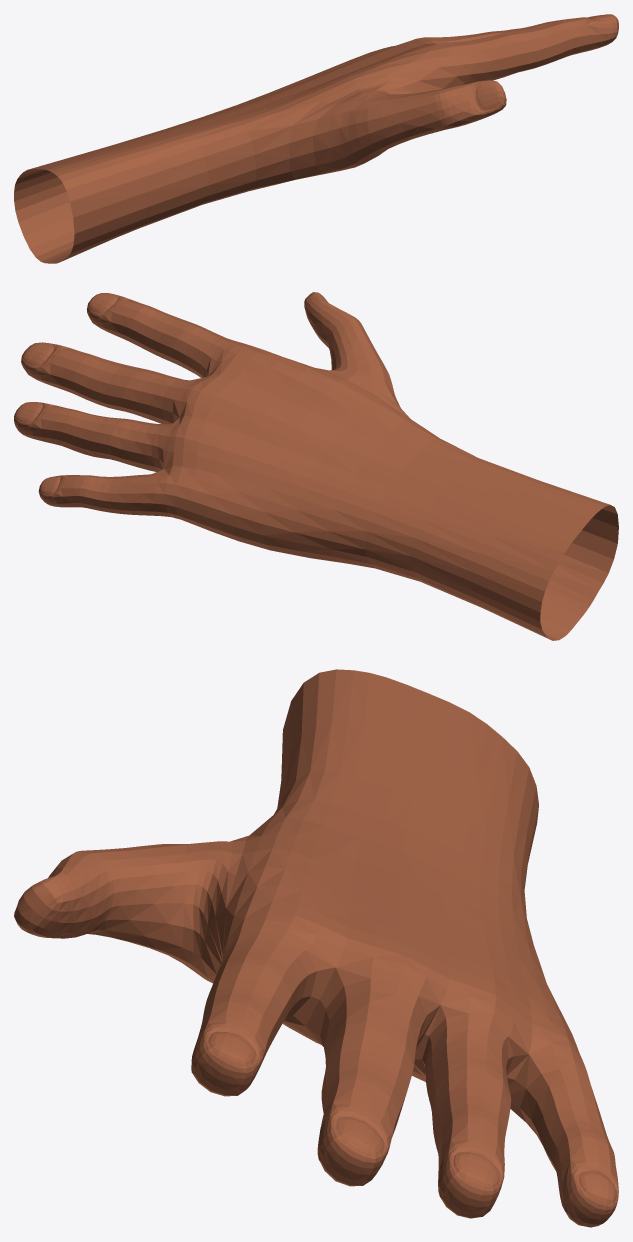
The model's file is hand15.FBX.
The picture shows the model from 3 angles, top to bottom: view 1: azimuth 30°, elevation 25°; view 2: azimuth 150°, elevation 25°; view 3: azimuth 270°, elevation 25°; orthographic projection. The views are drawn at different scales.
Visible parts, largest first — view 1: Cube.005; view 2: Cube.005; view 3: Cube.005.
Boxes of the visible parts, left/top/right/bottom form: Cube.005: left=14, top=14, right=618, bottom=263; Cube.005: left=14, top=292, right=618, bottom=640; Cube.005: left=14, top=669, right=618, bottom=1227.
Size of the model in its own units: 3.65 by 1.07 by 1.8.
